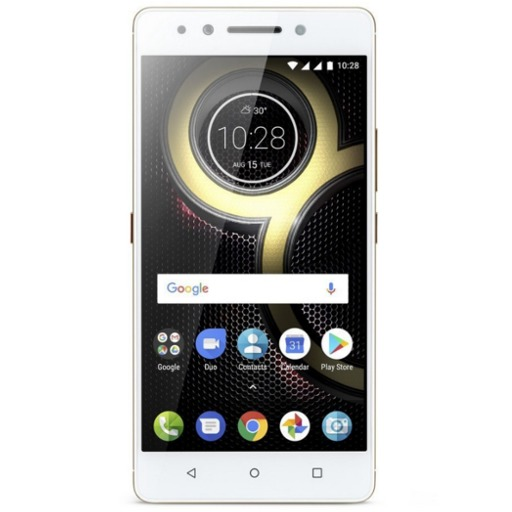mobile: (132, 5, 375, 504)
